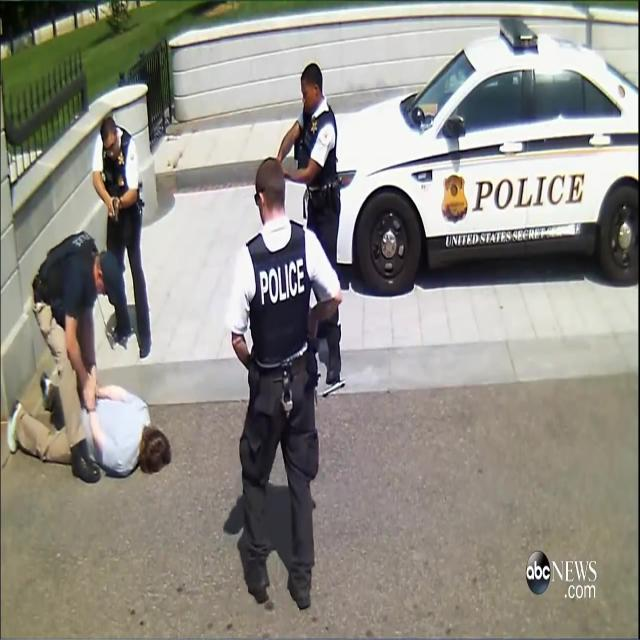Weapon: (98, 182, 140, 230)
